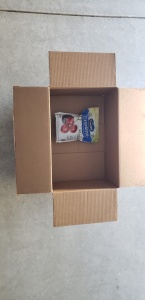innerbox: (51, 89, 117, 189)
outerbox: (12, 51, 145, 223)
product: (55, 107, 101, 143)
